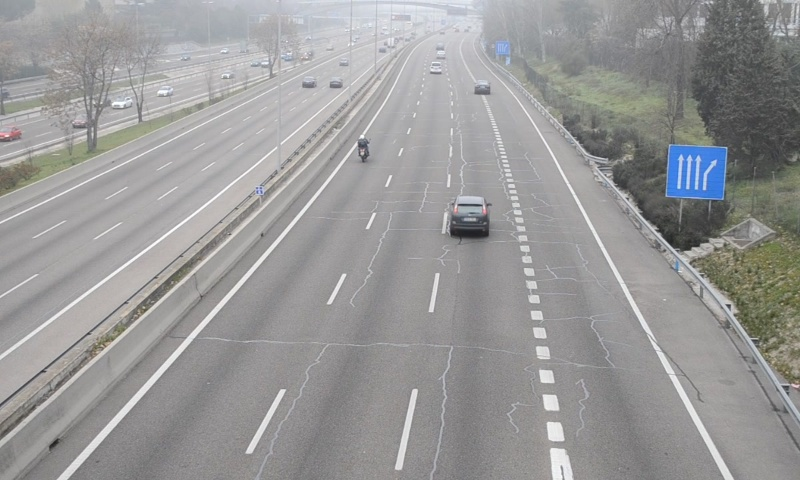car: (449, 196, 490, 236), (474, 81, 490, 95), (430, 62, 442, 74)
motorcycle: (354, 135, 369, 165)
